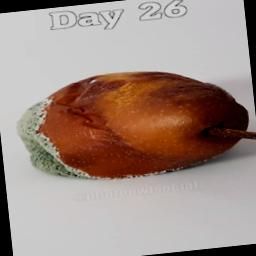Pear Rotten: (15, 66, 256, 197)
